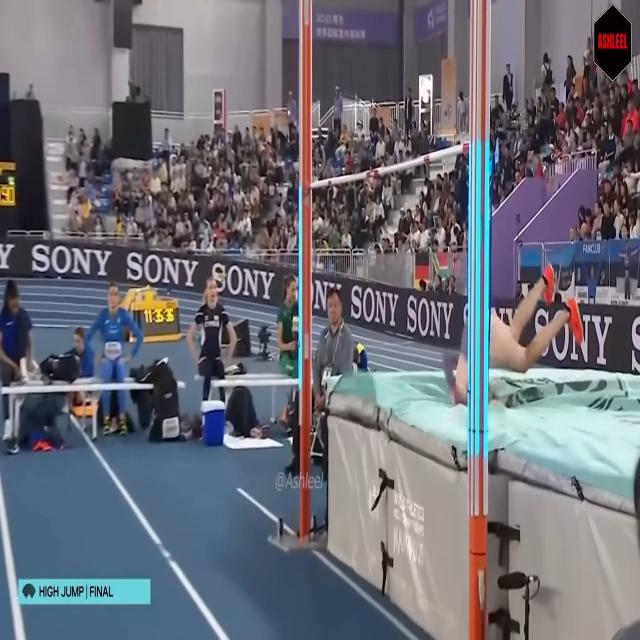land: (441, 264, 585, 405)
